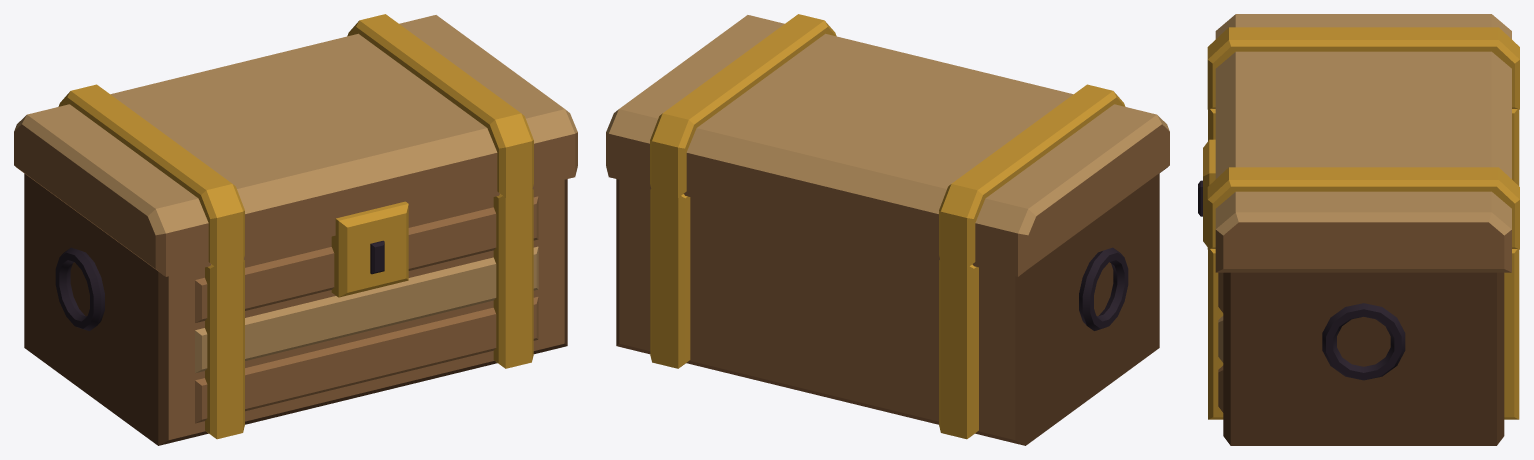
Rendered from Chest_15.glb.
The picture shows the model from 3 angles, left to right: view 1: azimuth 30°, elevation 25°; view 2: azimuth 150°, elevation 25°; view 3: azimuth 270°, elevation 25°; orthographic projection.
Parts seen in each view (by area): view 1: Chest_15; view 2: Chest_15; view 3: Chest_15.
Part boxes in pixels (box(x1,y1,x2,y2)): Chest_15: box(14, 14, 577, 445); Chest_15: box(606, 14, 1169, 445); Chest_15: box(1198, 14, 1519, 445).
Bounding box in the file's own units: 4.04 × 2.13 × 2.56.
